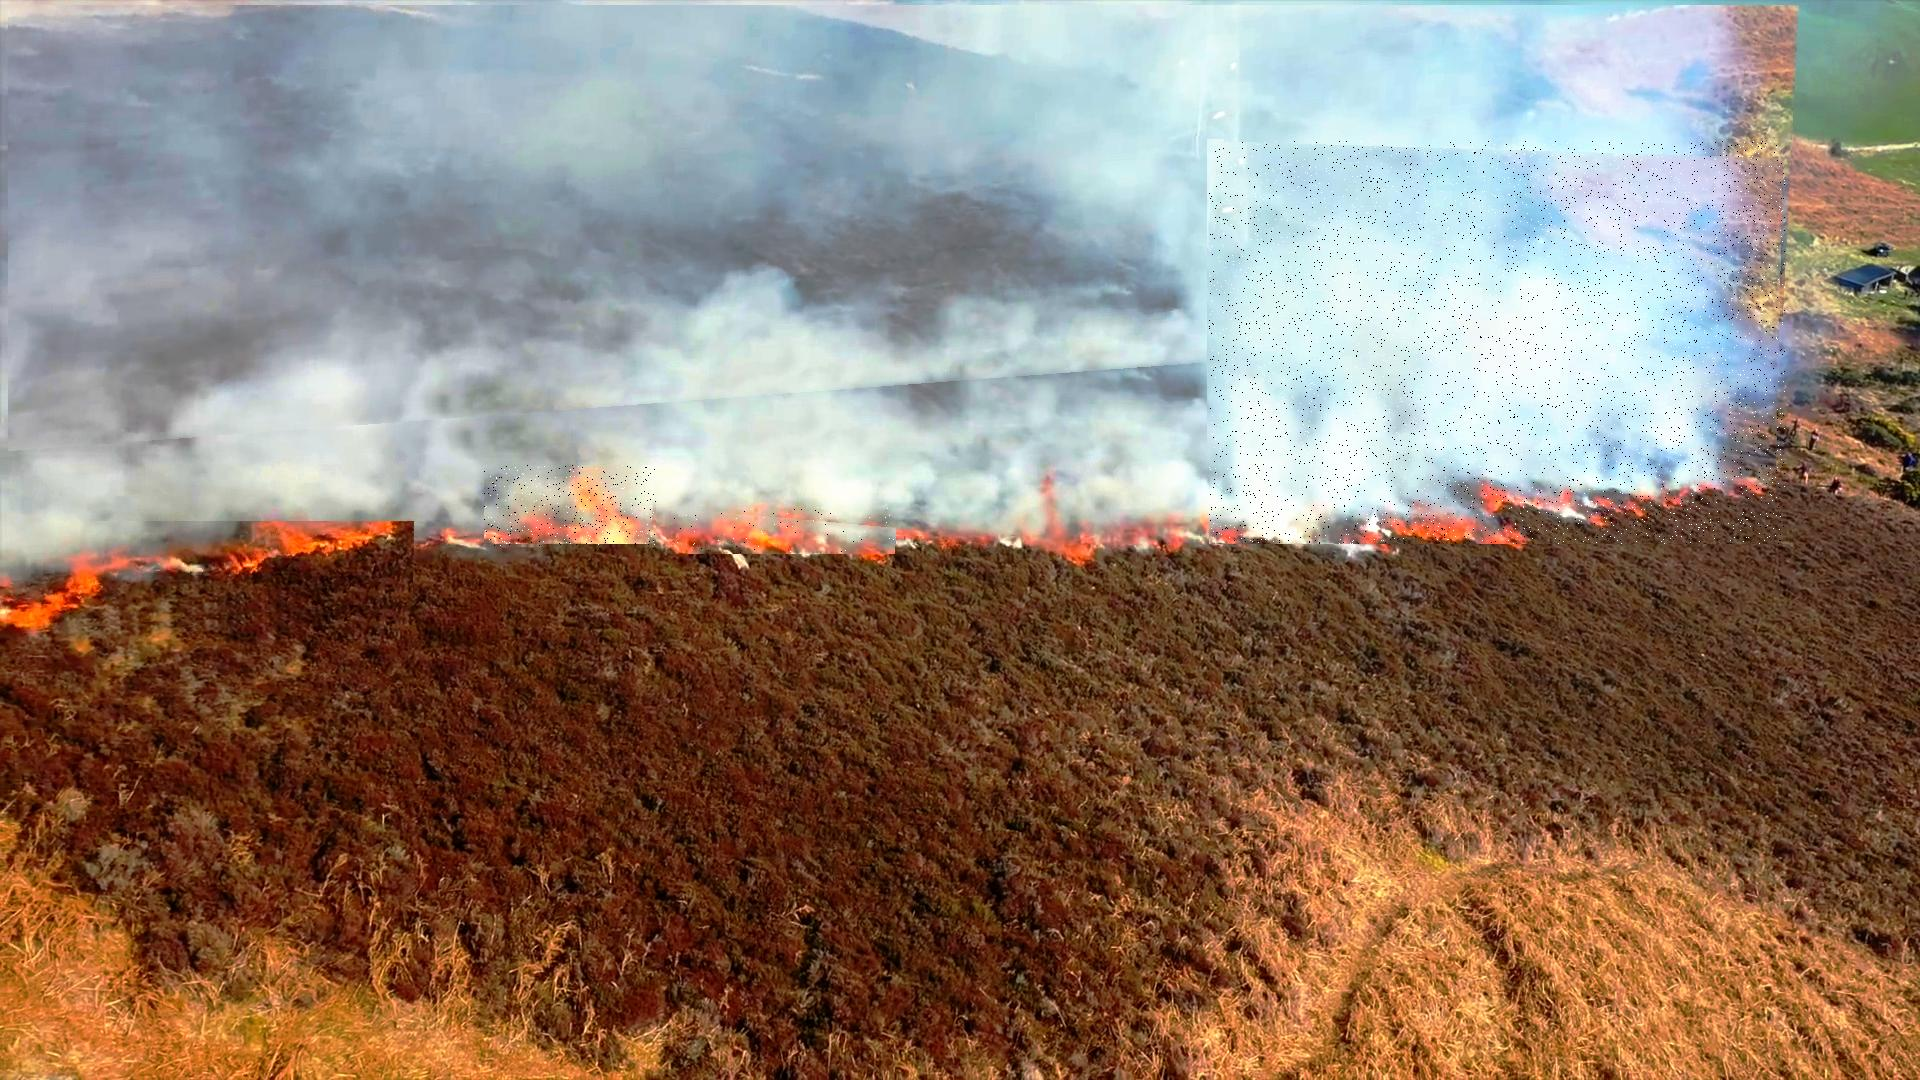fire: (0, 521, 414, 634), (484, 466, 656, 547), (661, 507, 896, 554), (1401, 499, 1481, 540)
smoke: (9, 6, 1809, 456), (1210, 141, 1786, 544)
